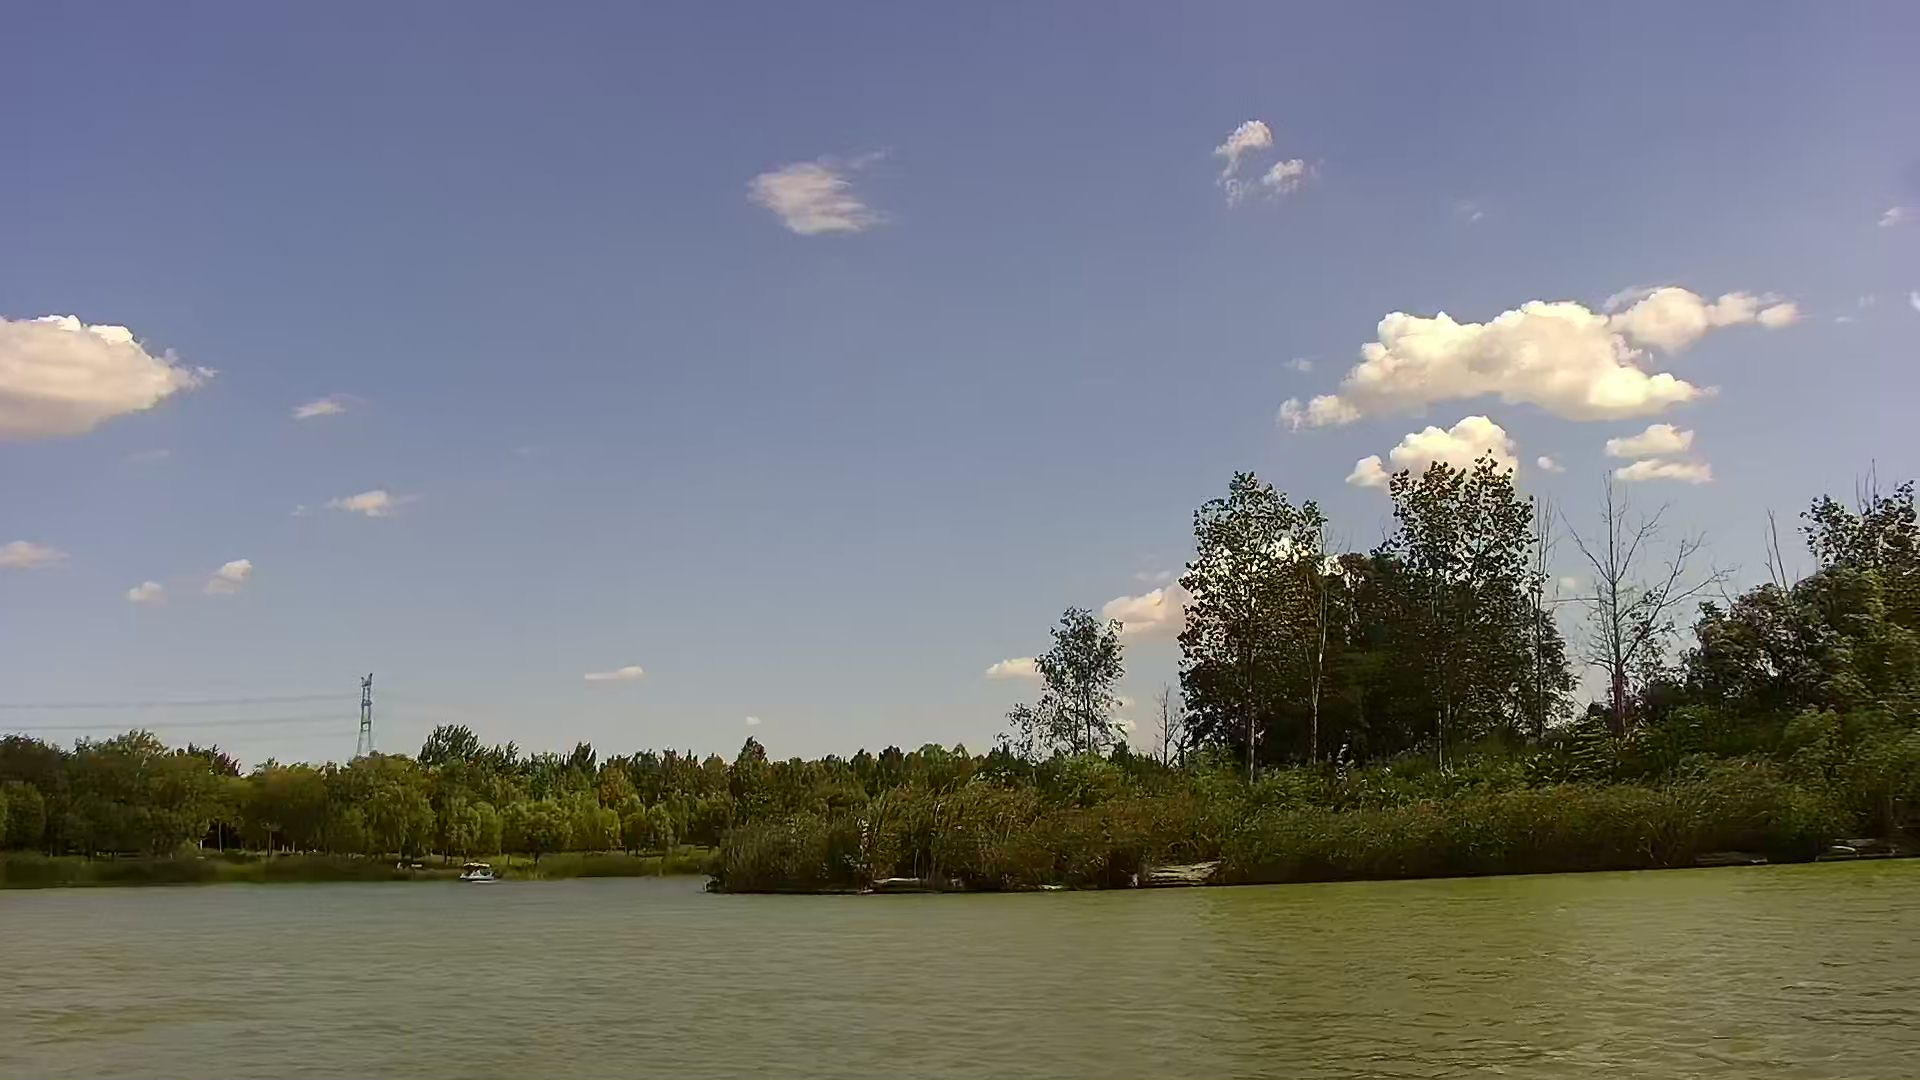boat: (452, 856, 487, 884)
rock: (1133, 861, 1229, 891), (873, 873, 951, 893)
